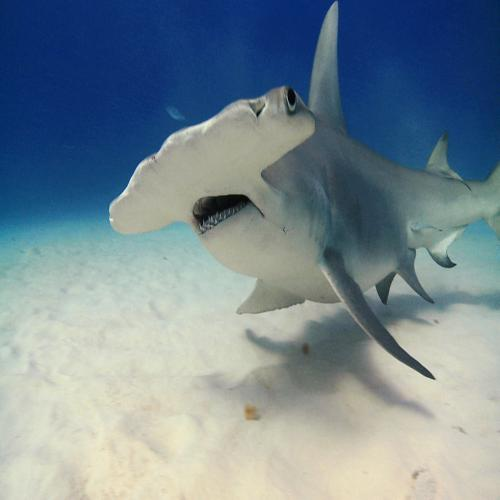shark-endangered: (107, 0, 500, 381)
